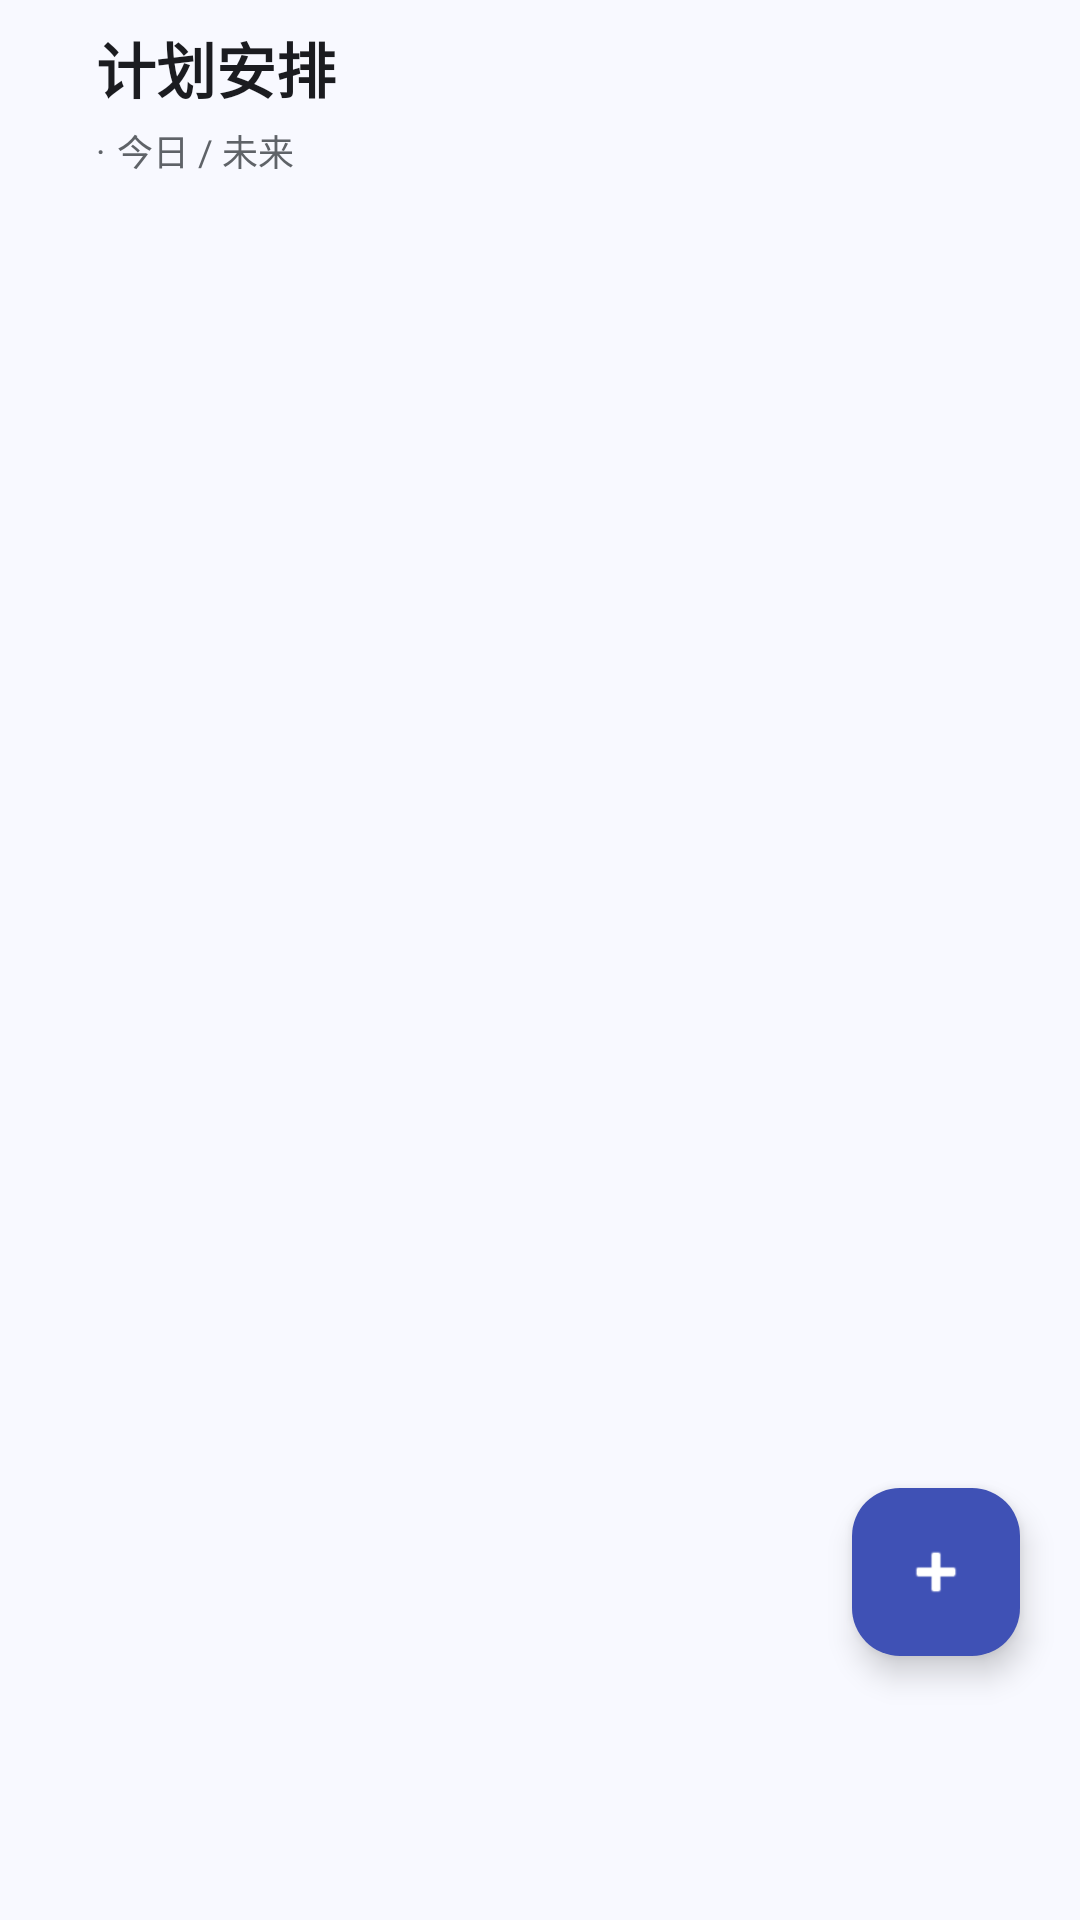

Named icons in this screenshot (1080px x 1920px) and their centers, [x,y]:
新增计划: [936,1572]
